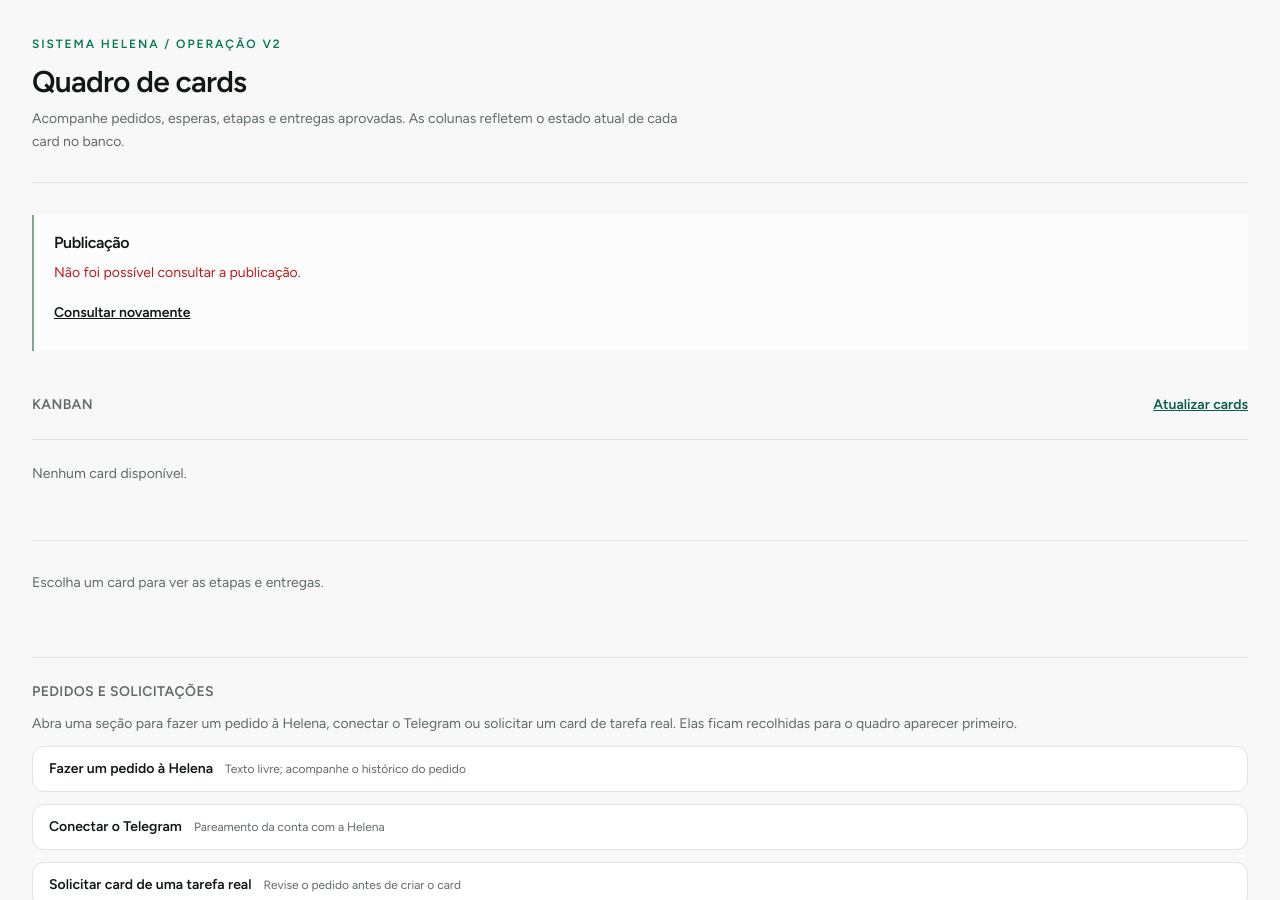
Test: permite repetir consulta de publicação e não anuncia sucesso sem confirmação
The image size is (1280, 900).
Check: the text "Não foi possível consultar a publicação." is shown, box [54,264,301,280]
Click the button "Consultar novamente" at coordinates (122, 312), box [54,290,190,334]
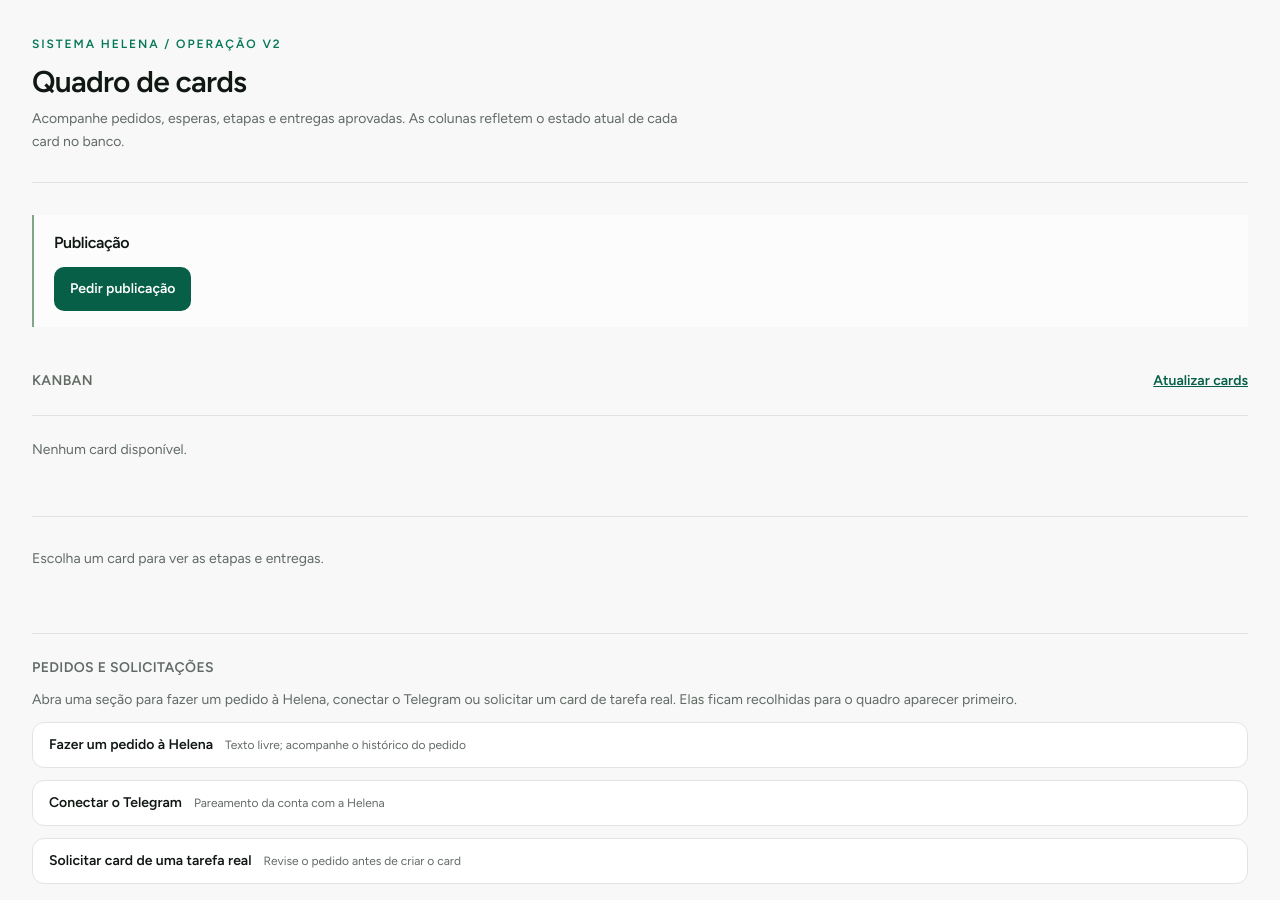
Click the button "Pedir publicação" at coordinates (123, 288), box [54,266,192,310]
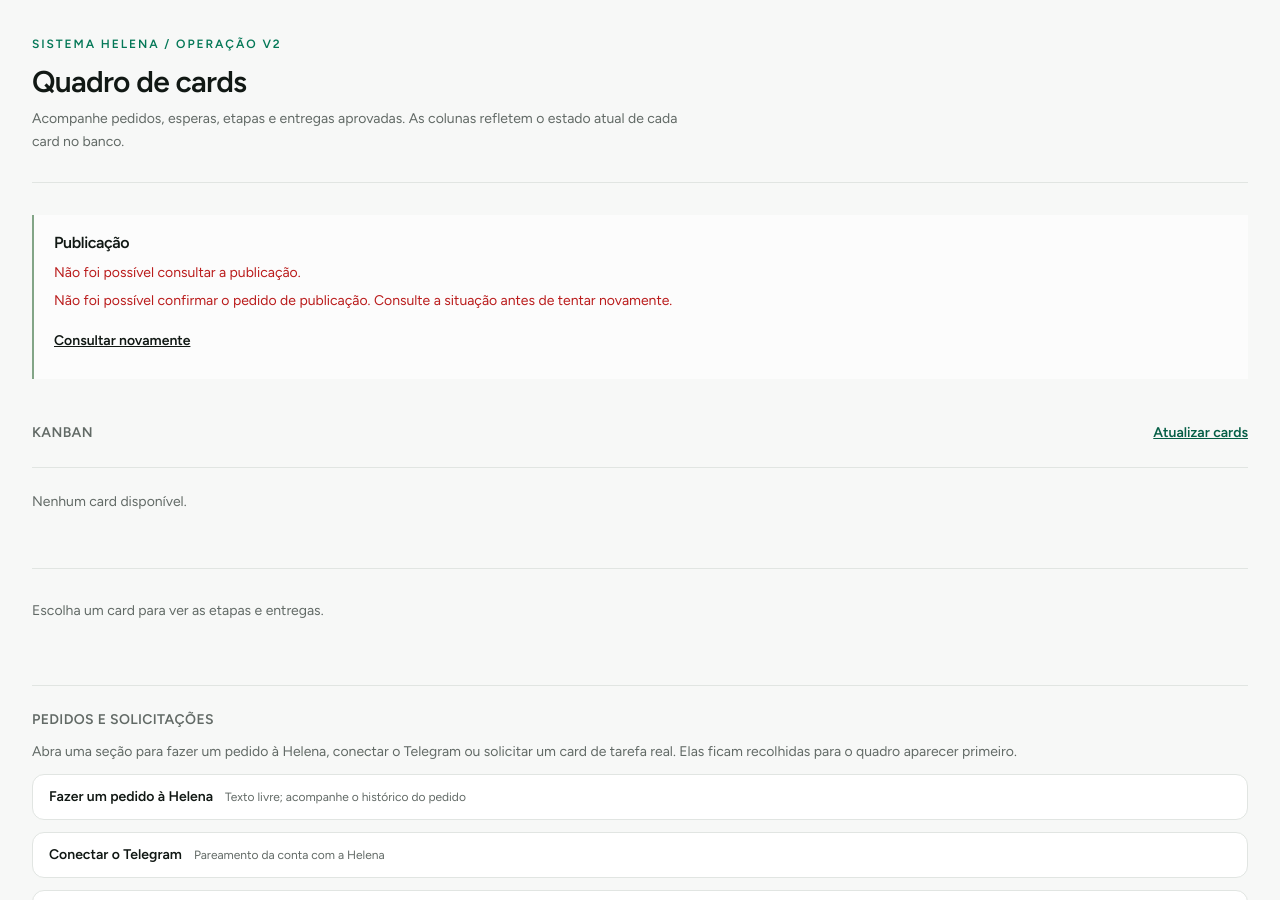
Check: the text "Não foi possível confirmar o pedido" is shown, box [54,292,672,308]
